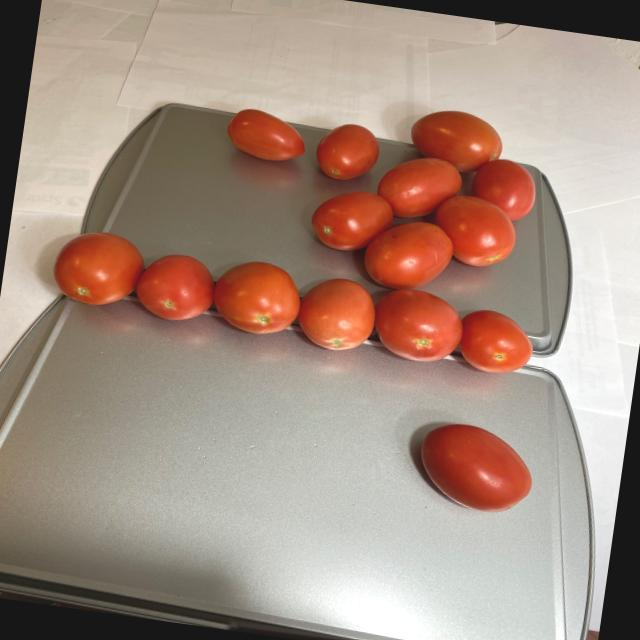tomato: (47, 59, 580, 378), (413, 418, 543, 518)
